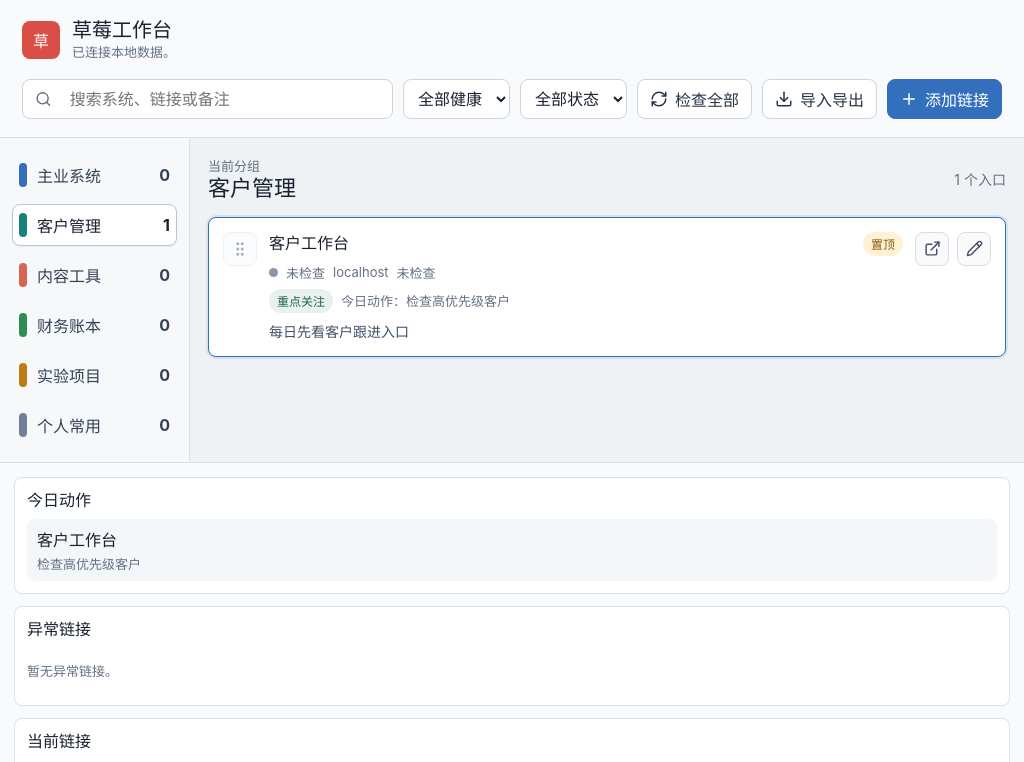
Scenario: App › filters links by search text
This screenshot has width=1024, height=762.
Type "客户" into the field with placeholder "搜索系统、链接或备注" at (220, 99), box [60, 79, 380, 119]
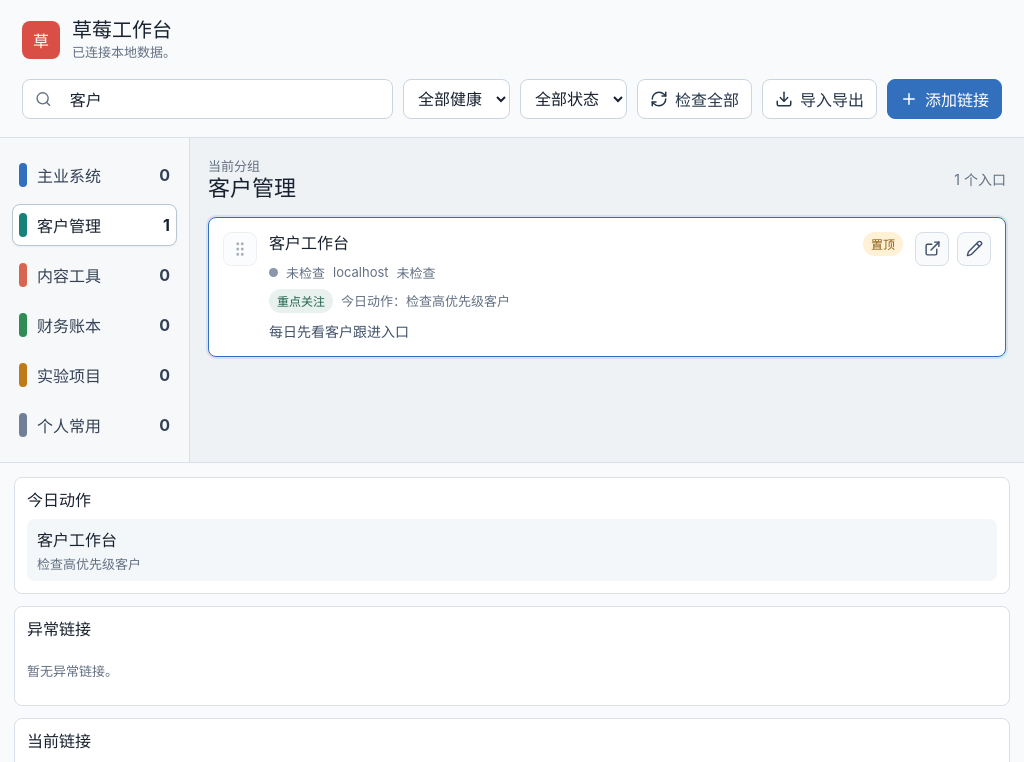
Expected: the heading "客户工作台" is shown, [269, 233, 349, 254]
Replace the text in the field with placeholder "搜索系统、链接或备注" with "不存在的入口" at (220, 99), box [60, 79, 380, 119]
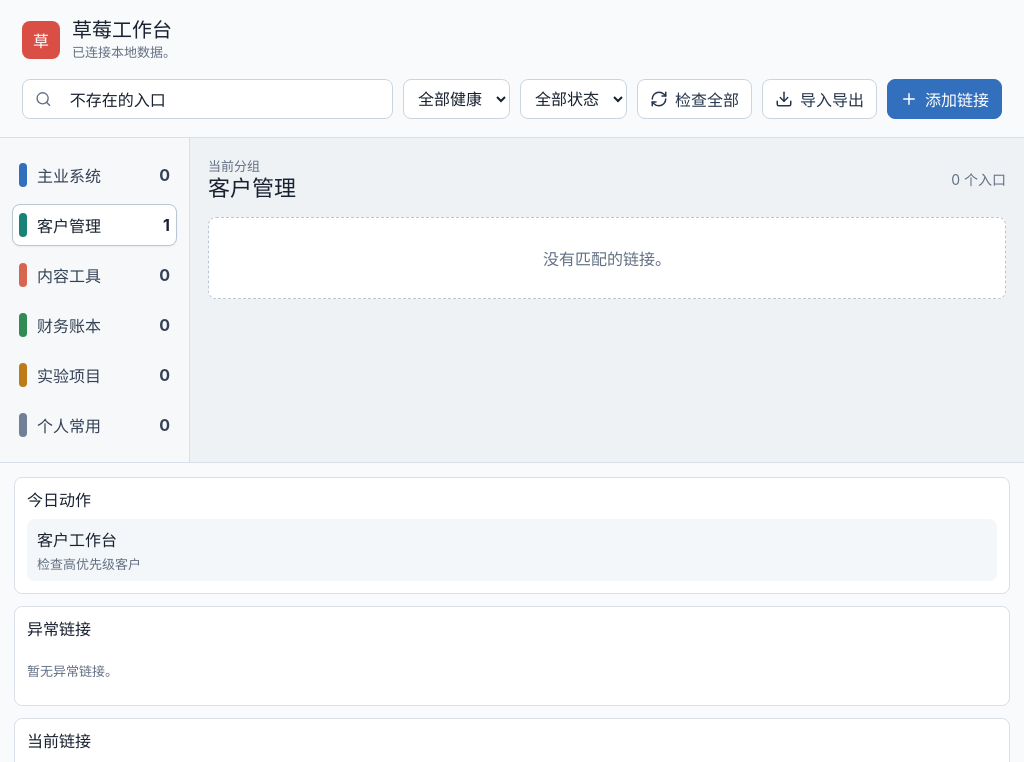
Now the text "没有匹配的链接。" is shown, box [208, 216, 1006, 298]
